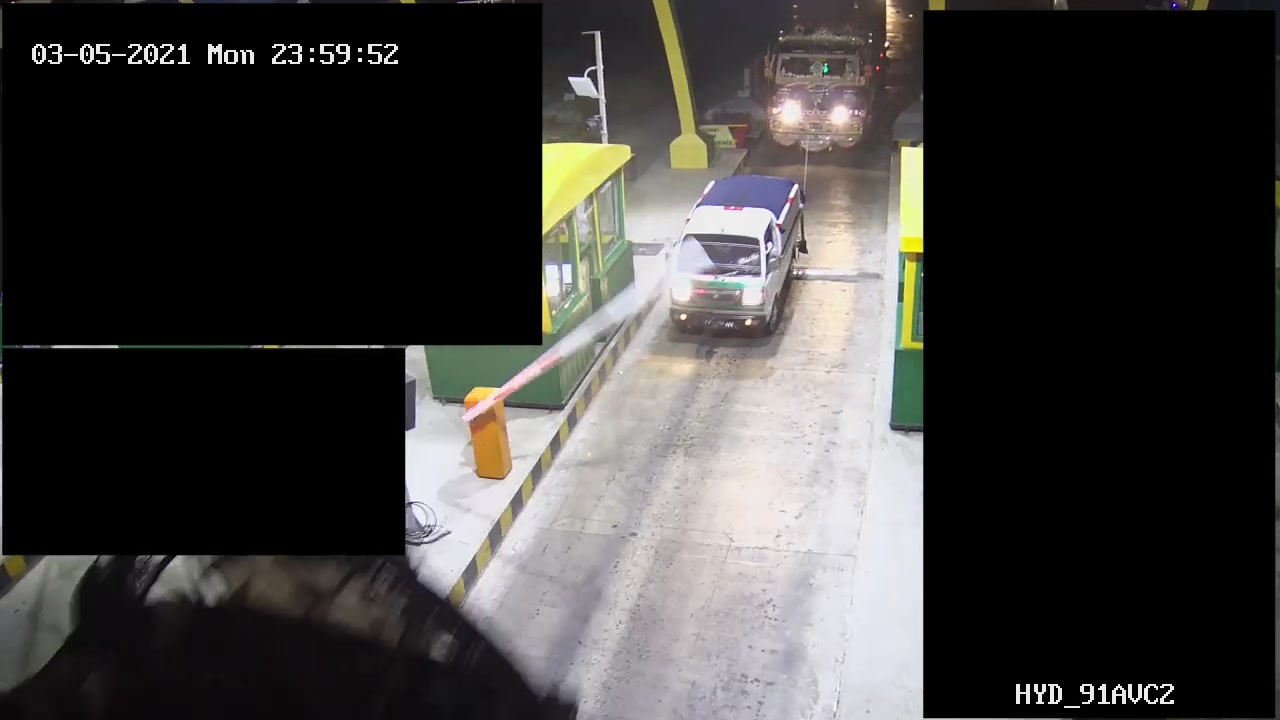F1: (653, 171, 814, 344)
